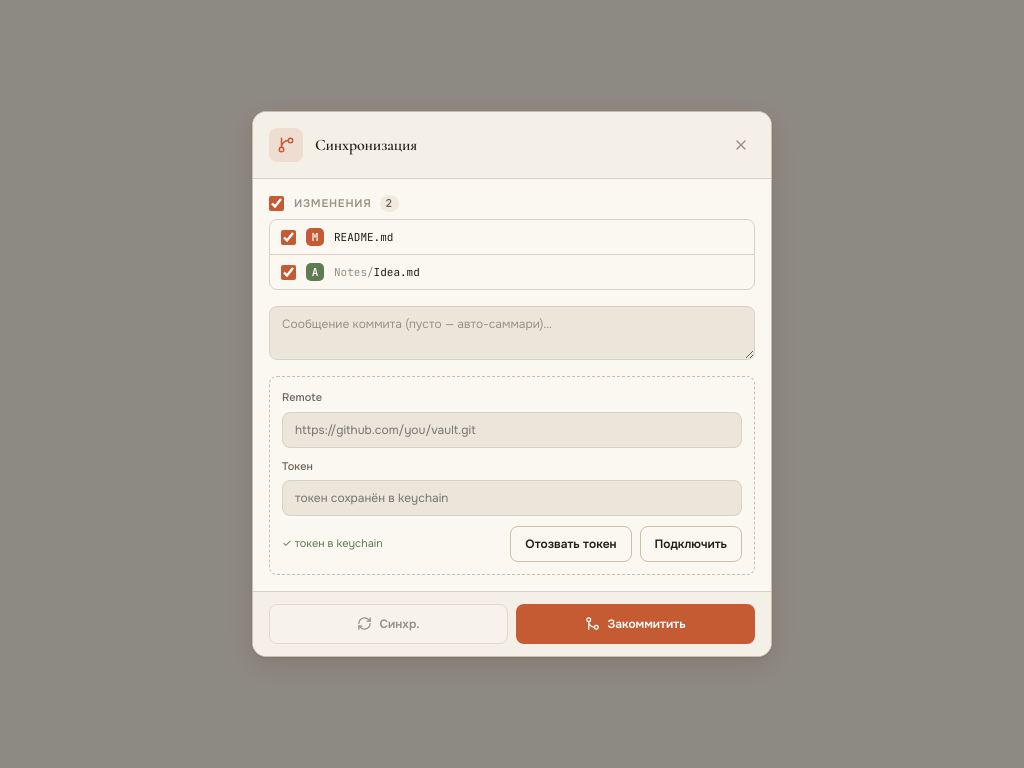
SyncPanel — отзыв токена (P1-17) › connected → кнопка «Отозвать» видна; клик зовёт git.clearToken и connected → false
Expected: the text "✓ токен в keychain" is shown, x1=282 y1=535 x2=383 y2=552
What coordinates should you click on to do the following:
click the button "Отозвать токен"
I would click on:
 (571, 544)
Its box is x1=510 y1=526 x2=632 y2=562.
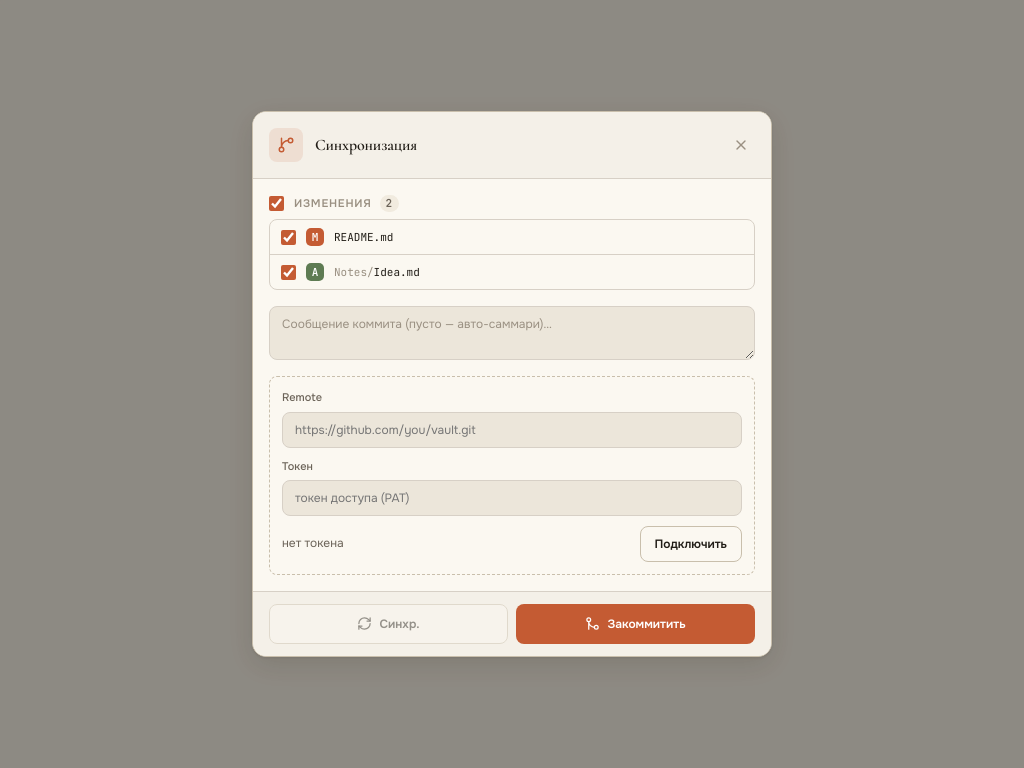
Expected: the text "нет токена" is shown, x1=282 y1=534 x2=344 y2=553
Expected: the button "Отозвать токен" is gone
